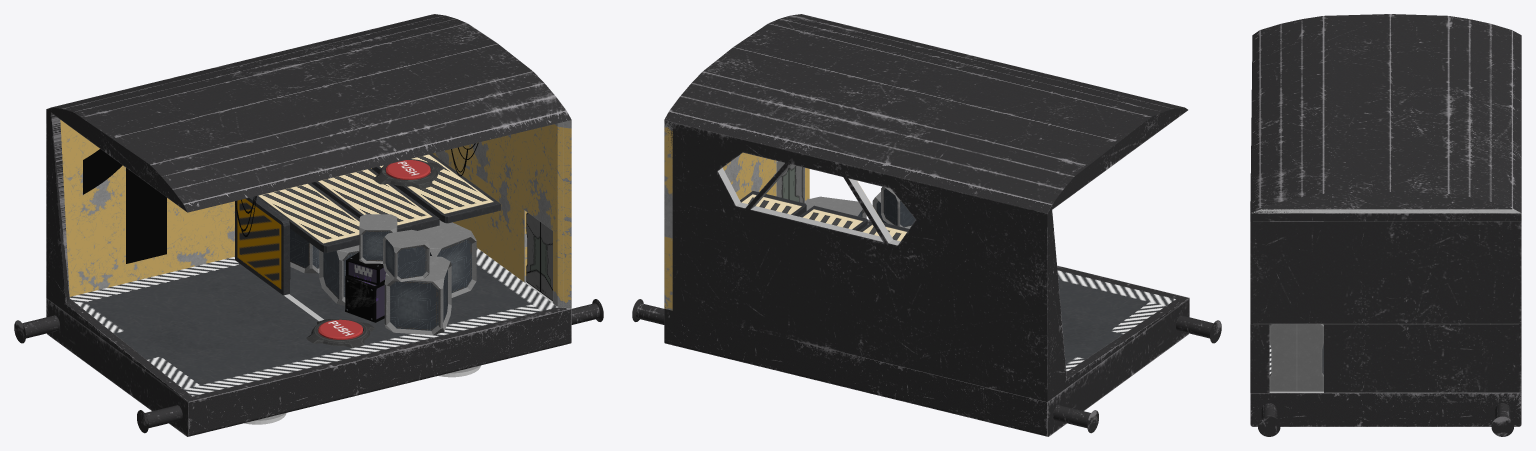
Rendered from level1.obj.
The picture shows the model from 3 angles, left to right: view 1: azimuth 30°, elevation 25°; view 2: azimuth 150°, elevation 25°; view 3: azimuth 270°, elevation 25°; orthographic projection. The views are drawn at different scales.
Parts seen in each view (by area): view 1: R_roof_1, F_floor_1, W_back_wall_1, W_right_wall_down_1, W_left_wall_1, Text, M_01_moving_platform_1, Y_decoBox1_4, S_door_platform_1.001, W_right_wall_left_1, S_door_platform_1.003, S_door_platform_1.002 (+14 smaller); view 2: W_back_wall_1, R_roof_1, F_floor_1, W_left_wall_1, W_right_wall_down_1, W_right_wall_left_1, Y_decoBox1_5, S_door_platform_1.003, S_door_platform_1.002, Y_decoBox1_3; view 3: R_roof_1, W_right_wall_down_1, W_right_wall_left_1, F_floor_1, W_right_wall_up_1, D_right_door_1, D_left_door_1, W_right_wall_right_1.
Part boxes in pixels (x1,y1,x2,y2): R_roof_1: [51, 14, 571, 212]; F_floor_1: [14, 248, 603, 436]; W_back_wall_1: [60, 120, 371, 296]; W_right_wall_down_1: [444, 124, 571, 236]; W_left_wall_1: [46, 107, 191, 401]; Text: [83, 149, 166, 263]; M_01_moving_platform_1: [235, 196, 290, 295]; Y_decoBox1_4: [384, 256, 451, 335]; S_door_platform_1.001: [256, 183, 359, 252]; W_right_wall_left_1: [433, 151, 527, 282]; S_door_platform_1.003: [311, 168, 439, 231]; S_door_platform_1.002: [372, 153, 500, 223]; W_back_wall_1: [664, 120, 1047, 401]; R_roof_1: [664, 14, 1184, 213]; F_floor_1: [632, 219, 1221, 436]; W_left_wall_1: [1047, 107, 1188, 401]; W_right_wall_down_1: [664, 128, 777, 238]; W_right_wall_left_1: [664, 163, 776, 310]; Y_decoBox1_5: [881, 186, 915, 228]; S_door_platform_1.003: [799, 205, 867, 230]; S_door_platform_1.002: [740, 191, 806, 216]; Y_decoBox1_3: [805, 196, 866, 218]; R_roof_1: [1250, 14, 1521, 213]; W_right_wall_down_1: [1250, 221, 1521, 323]; W_right_wall_left_1: [1324, 324, 1521, 392]; F_floor_1: [1250, 343, 1521, 436]; W_right_wall_up_1: [1250, 209, 1521, 221]; D_right_door_1: [1269, 324, 1296, 391]; D_left_door_1: [1297, 324, 1323, 391]; W_right_wall_right_1: [1250, 324, 1269, 392].
Bounding box in the file's own units: 13.27 × 7.33 × 7.19.
Materials: 16 (12 with a texture image).
